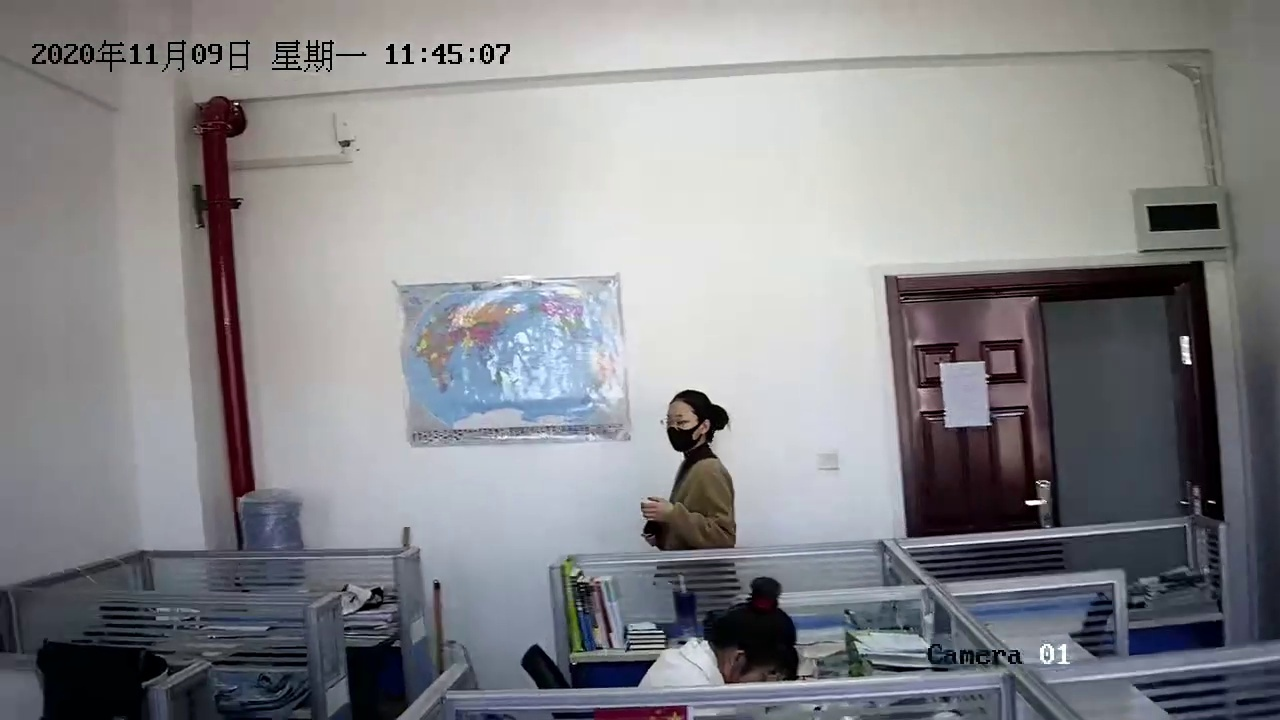mask: (659, 386, 708, 458)
